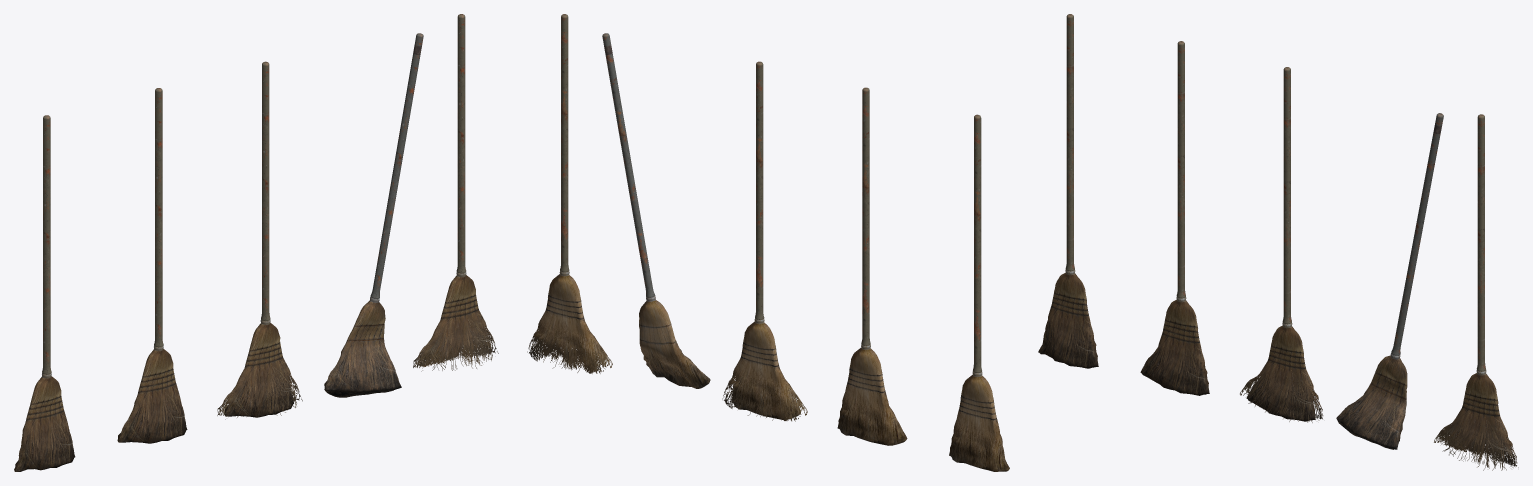
Rendered from simple_outdoor_brooms_type_a.glb.
The picture shows the model from 3 angles, left to right: view 1: azimuth 30°, elevation 25°; view 2: azimuth 150°, elevation 25°; view 3: azimuth 330°, elevation 25°; orthographic projection.
Visible parts, largest first — view 1: Simple Outdoor Broom Type A Pose 05_4, Simple Outdoor Broom Type A Pose 04_2, Simple Outdoor Broom Type A Pose 03_0, Simple Outdoor Broom Type A Pose 02_1, Simple Outdoor Broom Type A Pose 01_3; view 2: Simple Outdoor Broom Type A Pose 03_0, Simple Outdoor Broom Type A Pose 05_4, Simple Outdoor Broom Type A Pose 02_1, Simple Outdoor Broom Type A Pose 01_3, Simple Outdoor Broom Type A Pose 04_2; view 3: Simple Outdoor Broom Type A Pose 03_0, Simple Outdoor Broom Type A Pose 05_4, Simple Outdoor Broom Type A Pose 02_1, Simple Outdoor Broom Type A Pose 04_2, Simple Outdoor Broom Type A Pose 01_3.
Boxes of the visible parts, x1,y1,x2,y2 form: Simple Outdoor Broom Type A Pose 05_4: (413,14,498,371); Simple Outdoor Broom Type A Pose 04_2: (324,33,423,397); Simple Outdoor Broom Type A Pose 03_0: (217,61,302,419); Simple Outdoor Broom Type A Pose 02_1: (117,88,187,443); Simple Outdoor Broom Type A Pose 01_3: (14,115,75,471); Simple Outdoor Broom Type A Pose 03_0: (722,61,807,421); Simple Outdoor Broom Type A Pose 05_4: (527,14,612,373); Simple Outdoor Broom Type A Pose 02_1: (837,87,907,445); Simple Outdoor Broom Type A Pose 01_3: (949,114,1009,471); Simple Outdoor Broom Type A Pose 04_2: (602,33,710,388); Simple Outdoor Broom Type A Pose 03_0: (1240,67,1323,422); Simple Outdoor Broom Type A Pose 05_4: (1434,114,1518,470); Simple Outdoor Broom Type A Pose 02_1: (1140,41,1209,395); Simple Outdoor Broom Type A Pose 04_2: (1336,113,1443,449); Simple Outdoor Broom Type A Pose 01_3: (1038,14,1098,368).
Bounding box in the file's own units: 2.11 × 1.46 × 0.1835.
Materials: 2 (2 with a texture image).
